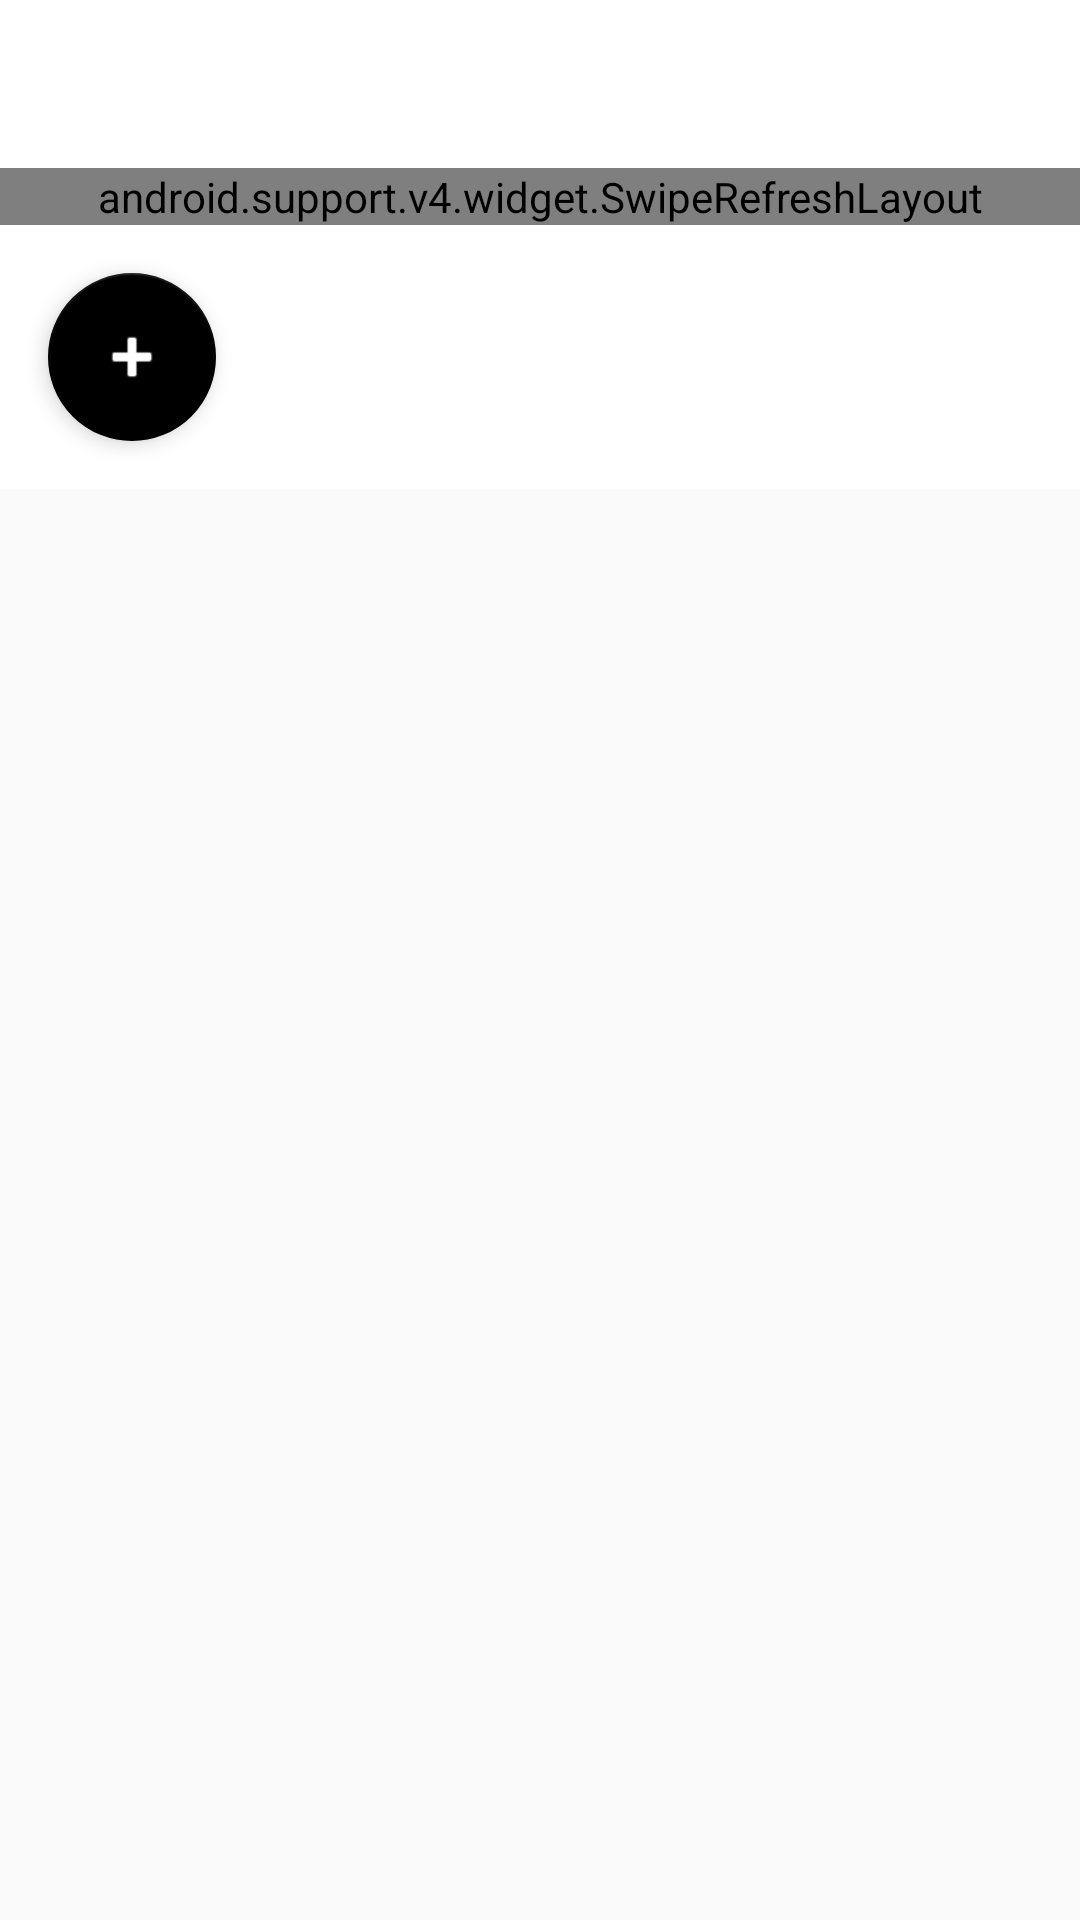

Where to tap for icons on this 1080 x 1920 app screen, as (x=x, y=y):
add: (x=132, y=357)
